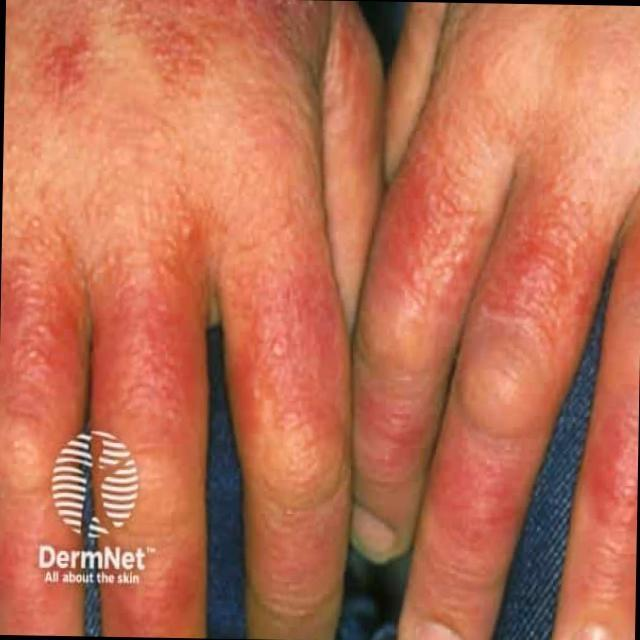Eczema: (23, 14, 322, 620), (353, 97, 640, 578)
